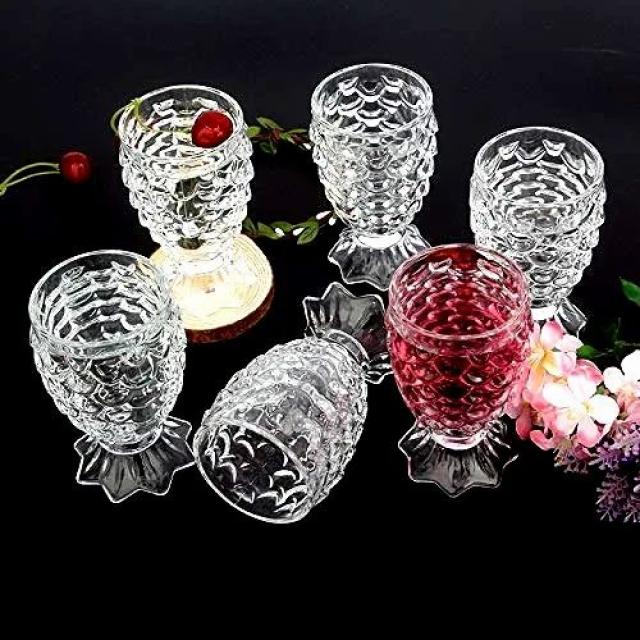glass: (25, 21, 625, 548), (189, 260, 387, 551), (21, 224, 207, 533), (101, 58, 303, 338), (376, 231, 558, 521), (300, 55, 452, 295), (469, 110, 623, 330)
